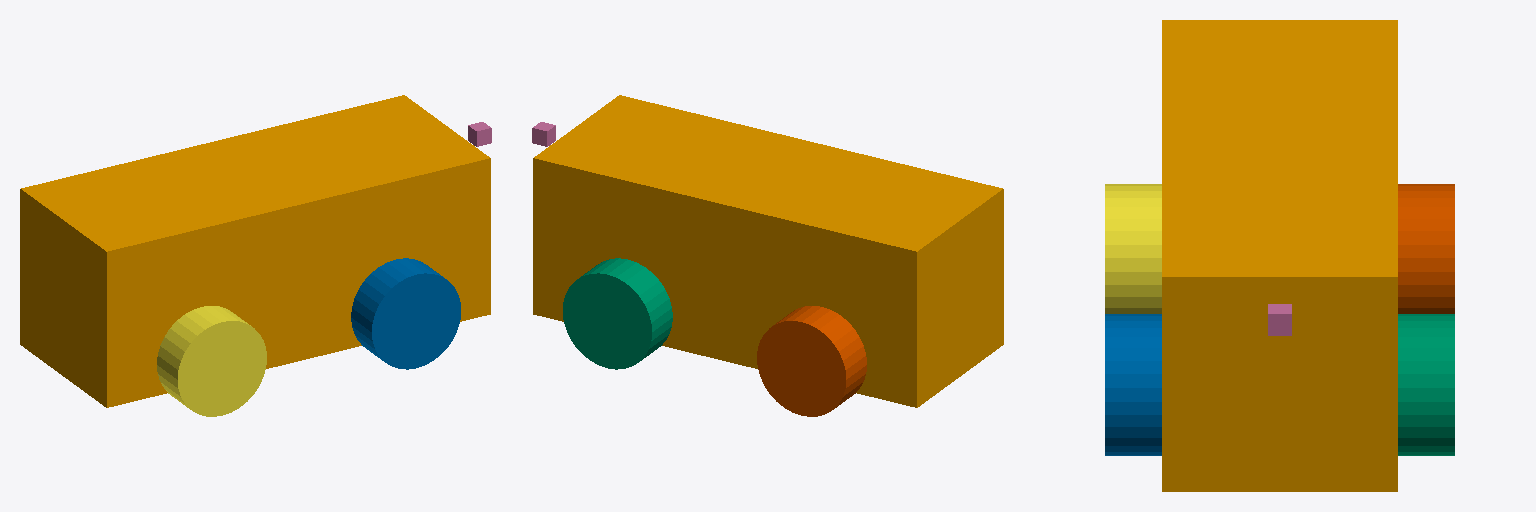
URDF robot description (tolya):
<?xml version="1.0" ?><!-- =================================================================================== --><!-- |    This document was autogenerated by xacro from urdf/tolya.xacro               | --><!-- |    EDITING THIS FILE BY HAND IS NOT RECOMMENDED                                 | --><!-- =================================================================================== --><robot name="tolya"><link name="base_link"><inertial><mass value="0.05"/><origin rpy=" 0 0 0" xyz="0.0 0 0"/><inertia ixx="0.1" ixy="0" ixz="0" iyy="0.1" iyz="0" izz="0.1"/></inertial><collision name="base_collision"><origin rpy="0 0 0" xyz="0 0 0.06"/><geometry><box size="0.257 0.1 0.1"/></geometry></collision><visual name="base_visual"><origin rpy="0 0 0" xyz="0 0 0.06"/><!-- <origin xyz="-0.187 0 0" rpy="0 0 ${pi}"/> --><geometry><box size="0.257 0.1 0.1"/><!-- <mesh scale="0.001 0.001 0.001" filename="$(find tolya_description)/meshes/base.stl"/> --></geometry></visual></link><link name="base_footprint"><visual name="base_footprint_visual"><origin rpy="0 0 0" xyz="0 0 0"/><geometry><box size="0.001 0.001 0.001"/></geometry></visual><inertial><mass value="0.05"/><origin rpy=" 0 0 0" xyz="0.0 0 0"/><inertia ixx="0" ixy="0" ixz="0" iyy="0" iyz="0" izz="0"/></inertial><collision name="base_footprint_collision"><origin rpy="0 0 0" xyz="0 0 0"/><geometry><box size="0.001 0.001 0.001"/></geometry></collision></link><joint name="base_link_joint" type="fixed"><origin rpy="0 0 0" xyz="0 0 0"/><parent link="base_footprint"/><child link="base_link"/></joint><gazebo><plugin filename="libgazebo_ros_planar_move.so" name="object_controller"><commandTopic>cmd_vel</commandTopic><odometryTopic>odom</odometryTopic><odometryFrame>odom</odometryFrame><odometryRate>20.0</odometryRate><robotBaseFrame>base_footprint</robotBaseFrame></plugin></gazebo><link name="wheel_link_1"><inertial><mass value="0.05"/><origin rpy=" 0 0 0" xyz="0 0 0"/><inertia ixx="0.1" ixy="0" ixz="0" iyy="0.1" iyz="0" izz="0.1"/></inertial><collision name="wheel_collision_1"><origin rpy="0 0 0" xyz="0 0 0"/><geometry><cylinder length="0.03" radius="0.03"/></geometry></collision><visual name="wheel_visual_1"><origin rpy="0 0 0" xyz="0 0 0"/><geometry><!-- <mesh filename="$(find tolya_description)/meshes/wheel.stl"/> --><cylinder length="0.03" radius="0.03"/></geometry></visual></link><joint name="wheel_joint_1" type="fixed"><origin rpy="0 1.5707963267948966 1.5707963267948966" xyz="0.065 0.059 0.03"/><parent link="base_link"/><child link="wheel_link_1"/></joint><link name="wheel_link_2"><inertial><mass value="0.05"/><origin rpy=" 0 0 0" xyz="0 0 0"/><inertia ixx="0.1" ixy="0" ixz="0" iyy="0.1" iyz="0" izz="0.1"/></inertial><collision name="wheel_collision_2"><origin rpy="0 0 0" xyz="0 0 0"/><geometry><cylinder length="0.03" radius="0.03"/></geometry></collision><visual name="wheel_visual_2"><origin rpy="0 0 0" xyz="0 0 0"/><geometry><!-- <mesh filename="$(find tolya_description)/meshes/wheel.stl"/> --><cylinder length="0.03" radius="0.03"/></geometry></visual></link><joint name="wheel_joint_2" type="fixed"><origin rpy="0 1.5707963267948966 1.5707963267948966" xyz="-0.065 -0.059 0.03"/><parent link="base_link"/><child link="wheel_link_2"/></joint><link name="wheel_link_3"><inertial><mass value="0.05"/><origin rpy=" 0 0 0" xyz="0 0 0"/><inertia ixx="0.1" ixy="0" ixz="0" iyy="0.1" iyz="0" izz="0.1"/></inertial><collision name="wheel_collision_3"><origin rpy="0 0 0" xyz="0 0 0"/><geometry><cylinder length="0.03" radius="0.03"/></geometry></collision><visual name="wheel_visual_3"><origin rpy="0 0 0" xyz="0 0 0"/><geometry><!-- <mesh filename="$(find tolya_description)/meshes/wheel.stl"/> --><cylinder length="0.03" radius="0.03"/></geometry></visual></link><joint name="wheel_joint_3" type="fixed"><origin rpy="0 1.5707963267948966 1.5707963267948966" xyz="0.065 -0.059 0.03"/><parent link="base_link"/><child link="wheel_link_3"/></joint><link name="wheel_link_4"><inertial><mass value="0.05"/><origin rpy=" 0 0 0" xyz="0 0 0"/><inertia ixx="0.1" ixy="0" ixz="0" iyy="0.1" iyz="0" izz="0.1"/></inertial><collision name="wheel_collision_4"><origin rpy="0 0 0" xyz="0 0 0"/><geometry><cylinder length="0.03" radius="0.03"/></geometry></collision><visual name="wheel_visual_4"><origin rpy="0 0 0" xyz="0 0 0"/><geometry><!-- <mesh filename="$(find tolya_description)/meshes/wheel.stl"/> --><cylinder length="0.03" radius="0.03"/></geometry></visual></link><joint name="wheel_joint_4" type="fixed"><origin rpy="0 1.5707963267948966 1.5707963267948966" xyz="-0.065 0.059 0.03"/><parent link="base_link"/><child link="wheel_link_4"/></joint><gazebo reference="base_link"><gravity>true</gravity><sensor name="base_link_sensor" type="imu"><always_on>true</always_on><update_rate>5</update_rate><visualize>true</visualize><topic>imu</topic><plugin filename="libgazebo_ros_imu_sensor.so" name="imu_plugin"><topicName>imu</topicName><bodyName>base_link</bodyName><updateRateHZ>10.0</updateRateHZ><gaussianNoise>0.0</gaussianNoise><xyzOffset>0 0 0</xyzOffset><rpyOffset>0 0 0</rpyOffset><frameName>imu_link</frameName></plugin><pose>0 0 0 0 0 0</pose></sensor></gazebo><link name="camera_frame"><collision><origin rpy="0 0 0" xyz="0 0 0"/><geometry><box size="0.01 0.01 0.01"/></geometry></collision><visual><origin rpy="0 0 0" xyz="0 0 0"/><geometry><box size="0.01 0.01 0.01"/></geometry></visual><inertial><mass value="1e-5"/><origin rpy="0 0 0" xyz="0 0 0"/><inertia ixx="1e-6" ixy="0" ixz="0" iyy="1e-6" iyz="0" izz="1e-6"/></inertial></link><joint name="camera_joint" type="fixed"><origin rpy="0 0 0" xyz="0.15 0.0 0.1"/><parent link="base_link"/><child link="camera_frame"/></joint><gazebo reference="camera_frame"><sensor name="camera" type="camera"><visualize>true</visualize><update_rate>30.0</update_rate><camera name="head"><horizontal_fov>1.5</horizontal_fov><image><width>640</width><height>320</height><format>R8G8B8</format></image><clip><near>0.02</near><far>300</far></clip><noise><type>gaussian</type><mean>0.0</mean><stddev>0.007</stddev></noise></camera><plugin filename="libgazebo_ros_camera.so" name="camera_controller"><alwaysOn>true</alwaysOn><updateRate>10.0</updateRate><cameraName>tolya/camera</cameraName><imageTopicName>image_raw</imageTopicName><cameraInfoTopicName>camera_info</cameraInfoTopicName><frameName>camera_frame</frameName><hackBaseline>0.07</hackBaseline><distortionK1>0.041074563385132476</distortionK1><distortionK2>-0.23317633985075079</distortionK2><distortionK3>0.002736896865846102,</distortionK3><distortionT1>0.0013594533508533232,</distortionT1><distortionT2>0.24301538197366987</distortionT2></plugin></sensor></gazebo></robot>

--- Render facts (derived) ---
3 views of the same robot in one strip: view 1: azimuth 30°, elevation 25°; view 2: azimuth 150°, elevation 25°; view 3: azimuth 270°, elevation 25° (orthographic).
Model tolya with 7 links and 6 joints (6 fixed), rooted at base_footprint, posed every joint at zero.
Visible links, largest first — view 1: base_link, wheel_link_2, wheel_link_3; view 2: base_link, wheel_link_4, wheel_link_1; view 3: base_link, wheel_link_1, wheel_link_3, wheel_link_2, wheel_link_4, camera_frame.
Boxes of the visible links, bbox=[...] form: base_link: bbox=[20, 95, 490, 407]; wheel_link_2: bbox=[157, 306, 266, 416]; wheel_link_3: bbox=[351, 258, 460, 369]; base_link: bbox=[533, 95, 1003, 407]; wheel_link_4: bbox=[757, 306, 866, 416]; wheel_link_1: bbox=[563, 258, 672, 369]; base_link: bbox=[1162, 20, 1397, 491]; wheel_link_1: bbox=[1398, 314, 1454, 455]; wheel_link_3: bbox=[1105, 314, 1161, 455]; wheel_link_2: bbox=[1105, 184, 1161, 313]; wheel_link_4: bbox=[1398, 184, 1454, 313]; camera_frame: bbox=[1268, 304, 1291, 335].
Size in the robot's own frame: 0.2835 by 0.148 by 0.1105 metres.
Geometry: primitives only (box / cylinder / sphere), no mesh files.
